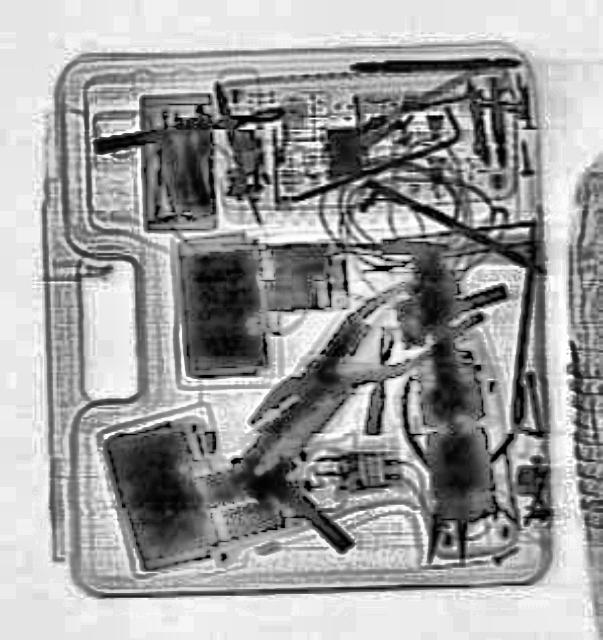Pliers: (225, 246, 487, 459), (378, 368, 526, 570)
